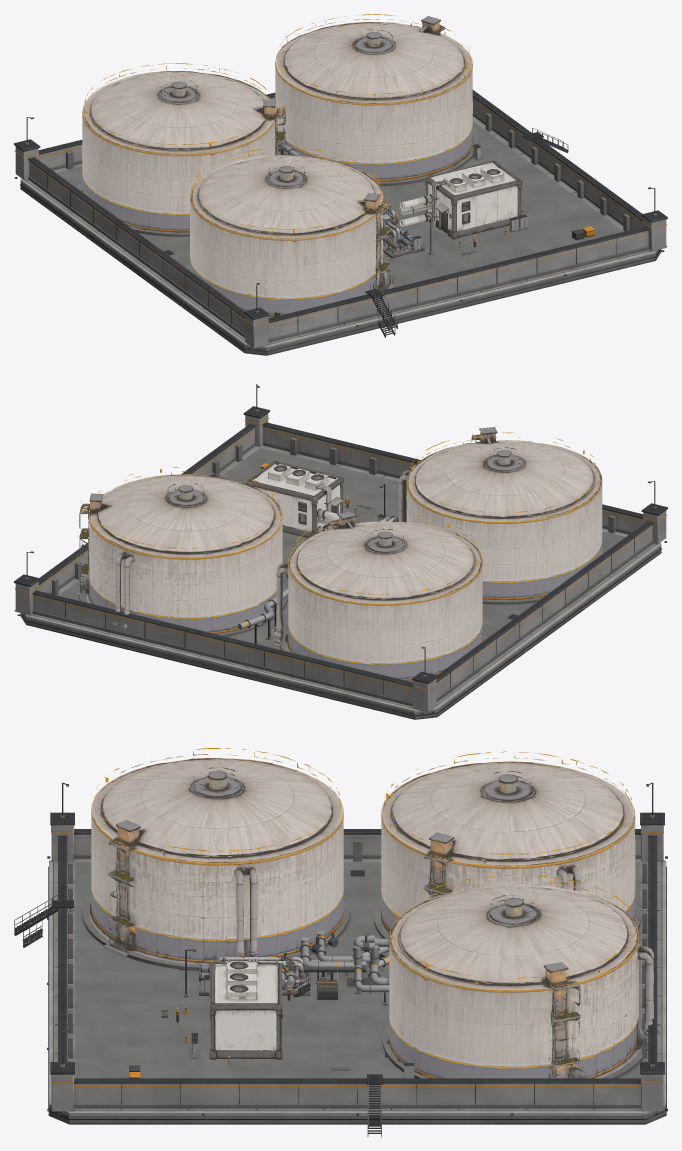
The model's file is oil_tanks.glb.
The picture shows the model from 3 angles, top to bottom: view 1: azimuth 30°, elevation 25°; view 2: azimuth 150°, elevation 25°; view 3: azimuth 270°, elevation 25°; orthographic projection. The views are drawn at different scales.
Parts seen in each view (by area): view 1: parts_colony-floatTank, hull, parts_colony-plantHouse, parts_colony-manifoldSkid; view 2: parts_colony-floatTank, hull, parts_colony-plantHouse; view 3: parts_colony-floatTank, hull, parts_colony-plantHouse, parts_colony-manifoldSkid.
Part boxes in pixels (x1,y1,x2,y2): parts_colony-floatTank: [81, 14, 473, 316]; hull: [14, 90, 667, 355]; parts_colony-plantHouse: [399, 160, 522, 239]; parts_colony-manifoldSkid: [383, 198, 424, 258]; parts_colony-floatTank: [77, 427, 602, 680]; hull: [14, 384, 667, 719]; parts_colony-plantHouse: [246, 460, 343, 537]; parts_colony-floatTank: [89, 748, 659, 1078]; hull: [14, 782, 667, 1136]; parts_colony-plantHouse: [209, 958, 282, 1059]; parts_colony-manifoldSkid: [199, 950, 310, 995].
Size of the model in its own units: 76.28 by 20.07 by 76.28.
5 materials, 5 textured.
